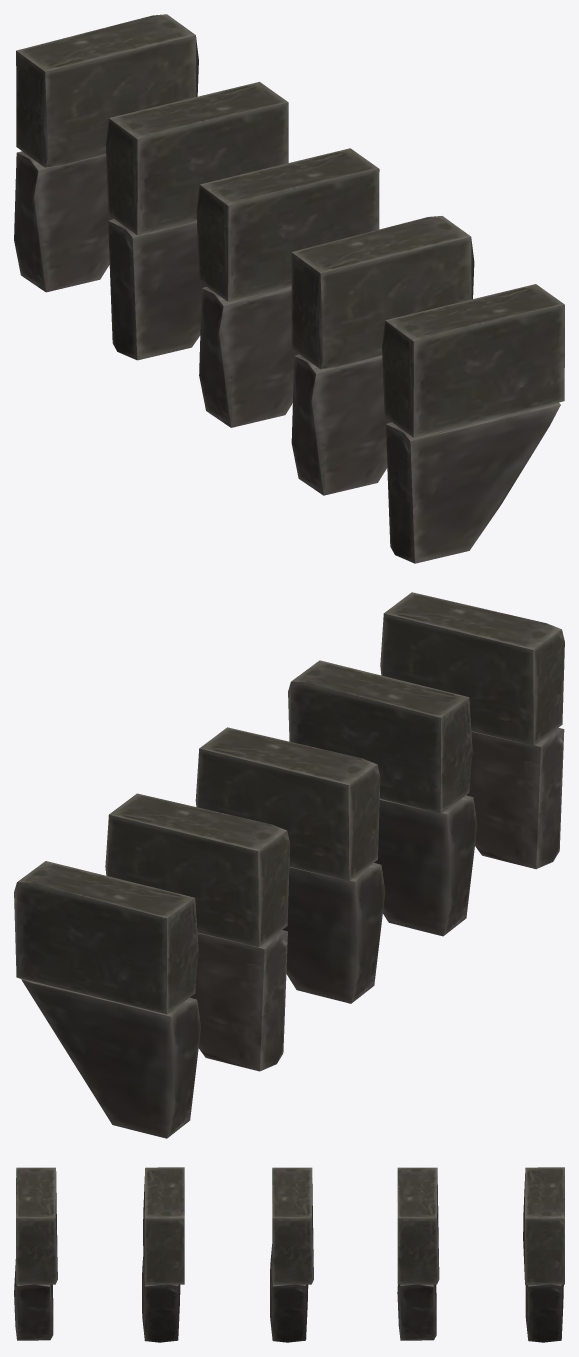
The picture shows the model from 3 angles, top to bottom: view 1: azimuth 30°, elevation 25°; view 2: azimuth 150°, elevation 25°; view 3: azimuth 270°, elevation 25°; orthographic projection. The views are drawn at different scales.
Parts seen in each view (by area): view 1: SM_Greathall_Stepout_Insert_01_LOD0; view 2: SM_Greathall_Stepout_Insert_01_LOD0; view 3: SM_Greathall_Stepout_Insert_01_LOD0.
Part boxes in pixels (x1,y1,x2,y2): SM_Greathall_Stepout_Insert_01_LOD0: (14, 14, 564, 563); SM_Greathall_Stepout_Insert_01_LOD0: (14, 592, 564, 1138); SM_Greathall_Stepout_Insert_01_LOD0: (14, 1167, 564, 1342).
Bounding box in the file's own units: 1.04 × 1.4 × 4.42.
Materials: 1 (1 with a texture image).
